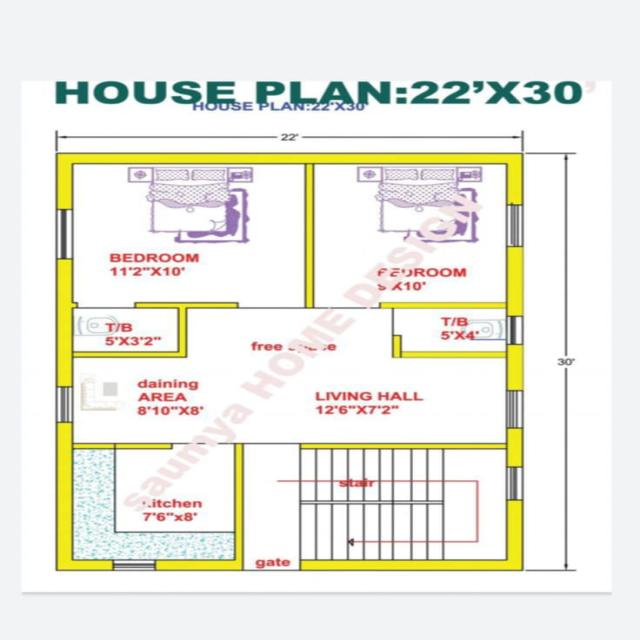column: (494, 150, 531, 170), (47, 148, 81, 168), (499, 554, 533, 574), (294, 149, 326, 170), (50, 555, 80, 575), (50, 297, 87, 313), (500, 297, 530, 315), (498, 437, 527, 455), (294, 298, 324, 314), (50, 438, 80, 454), (227, 439, 253, 454), (290, 439, 316, 454)
